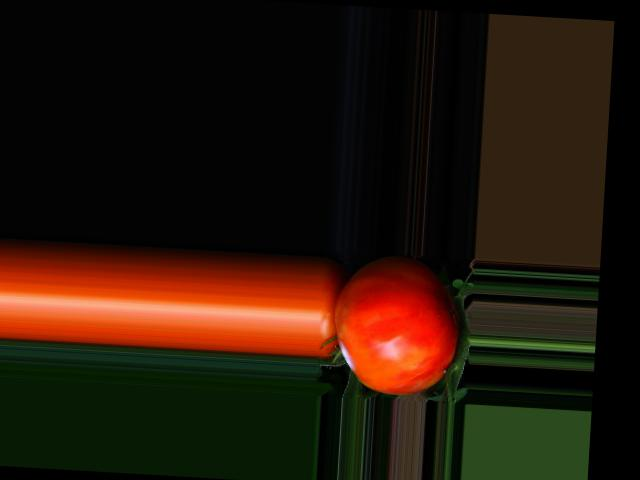tomato: (331, 252, 462, 397)
